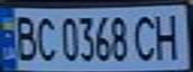0: (57, 12, 78, 63)
3: (75, 12, 96, 63)
6: (93, 14, 115, 63)
8: (109, 12, 133, 63)
B: (9, 11, 39, 62)
C: (130, 11, 160, 62), (33, 12, 60, 63)
H: (151, 9, 187, 61)
